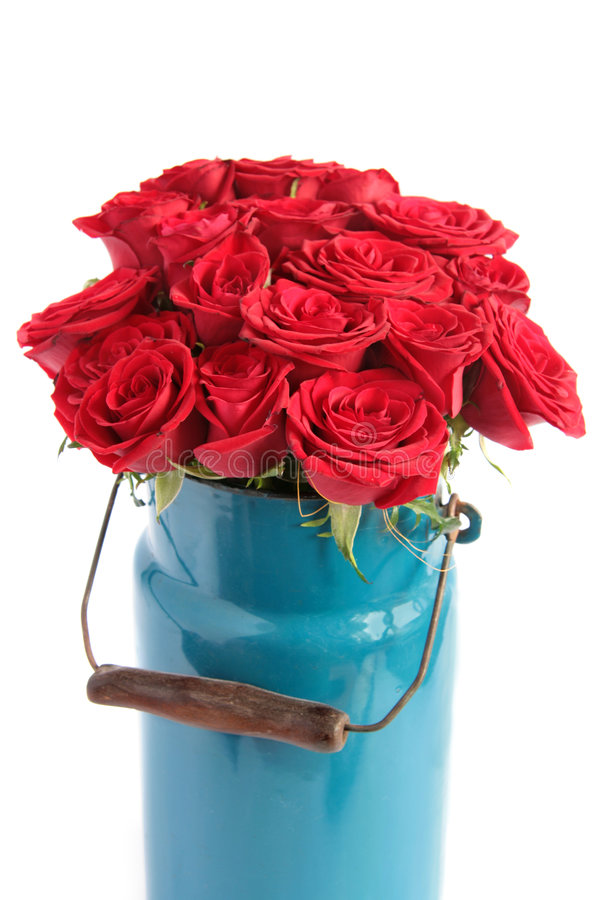RedRose: (288, 363, 458, 514), (468, 316, 589, 462), (44, 309, 180, 434), (184, 339, 298, 481), (74, 354, 199, 482), (14, 263, 160, 369), (375, 303, 488, 423), (358, 180, 525, 258), (247, 276, 370, 378), (302, 226, 446, 311), (162, 236, 267, 343), (60, 185, 170, 276), (142, 206, 253, 286), (247, 191, 365, 261), (233, 121, 305, 208), (450, 251, 531, 328), (310, 150, 405, 211), (147, 150, 247, 206)
